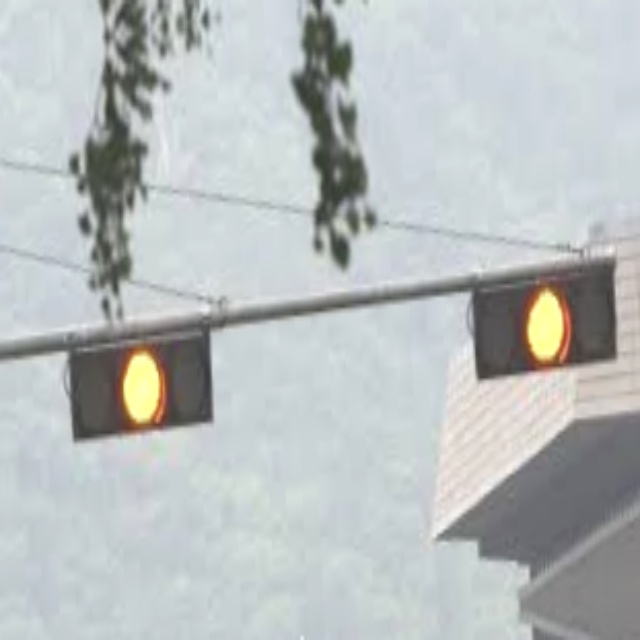yellow_light: (522, 281, 576, 368), (119, 344, 165, 429)
